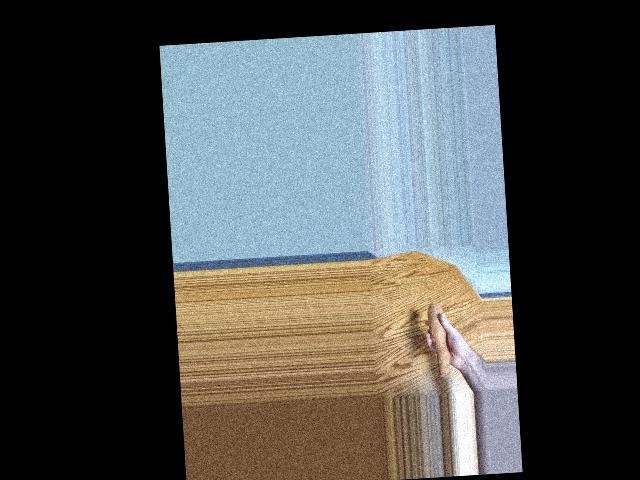sweet_potato: (427, 297, 455, 380)
